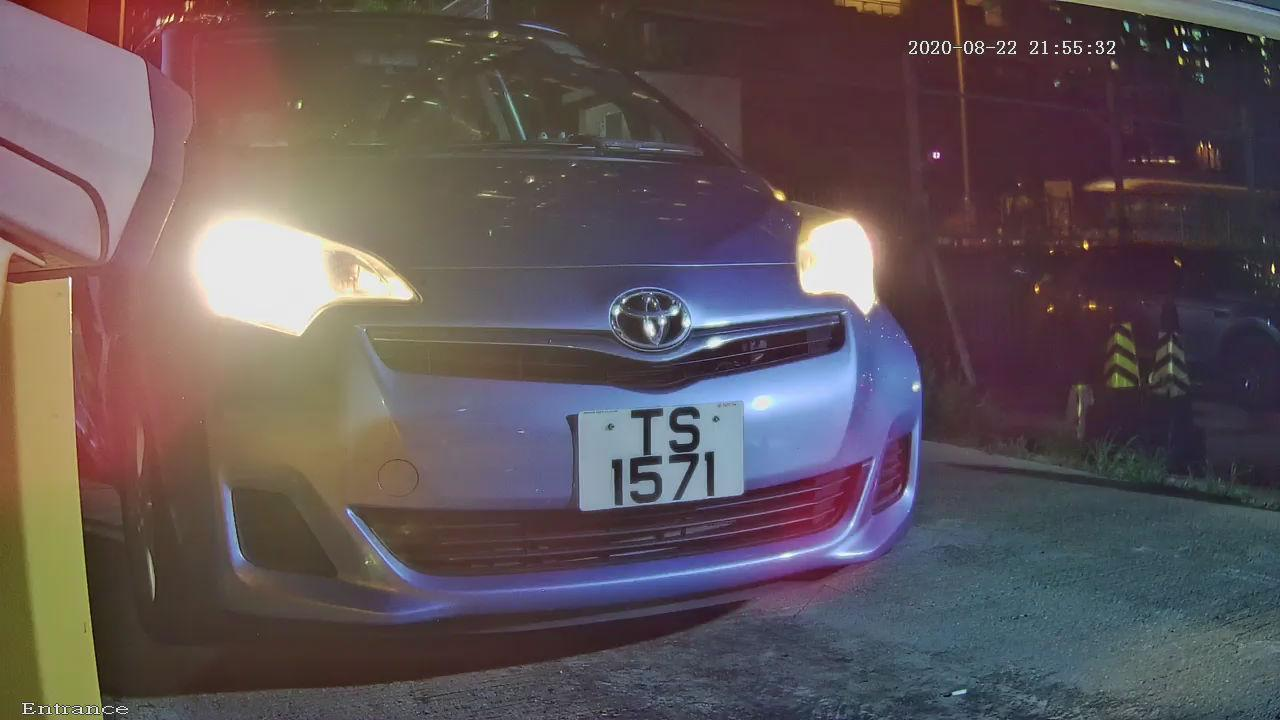License Plate: (549, 380, 766, 534)
